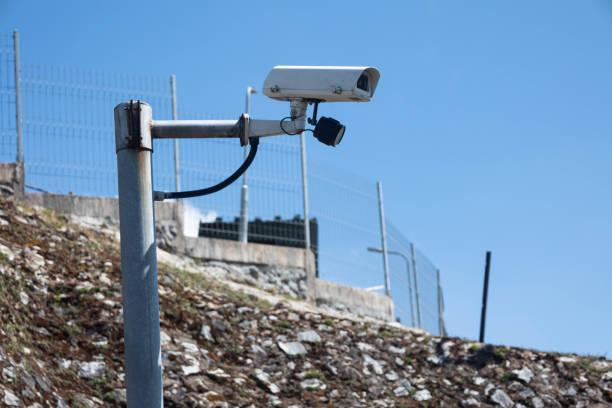camera: (258, 58, 386, 113)
